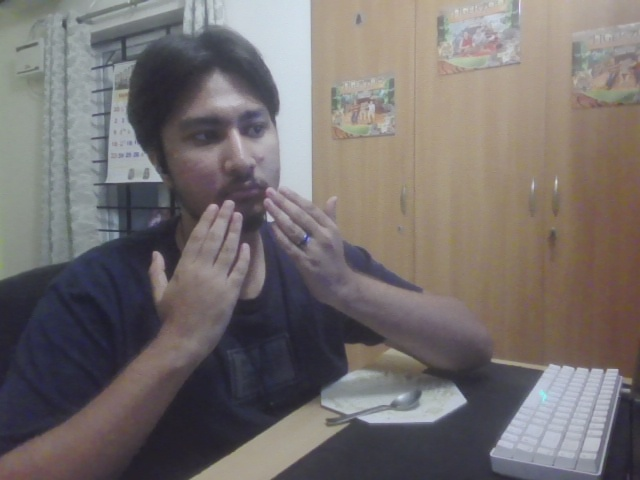thankyou: (146, 186, 354, 340)
